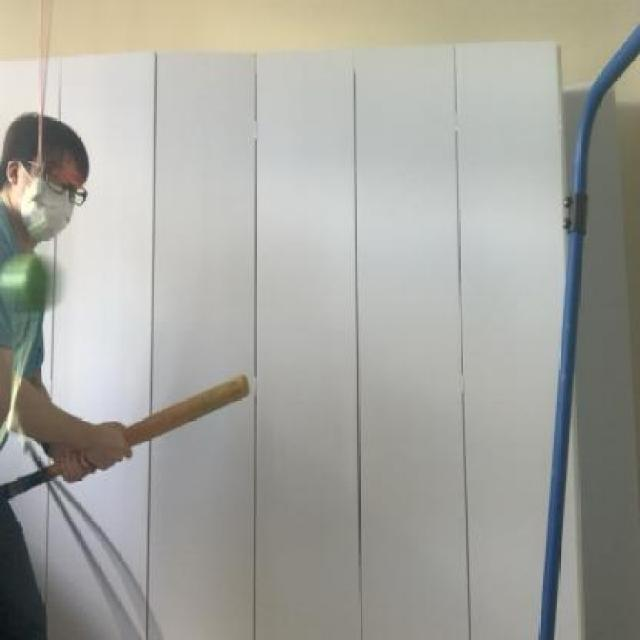baseball: (0, 249, 69, 325)
